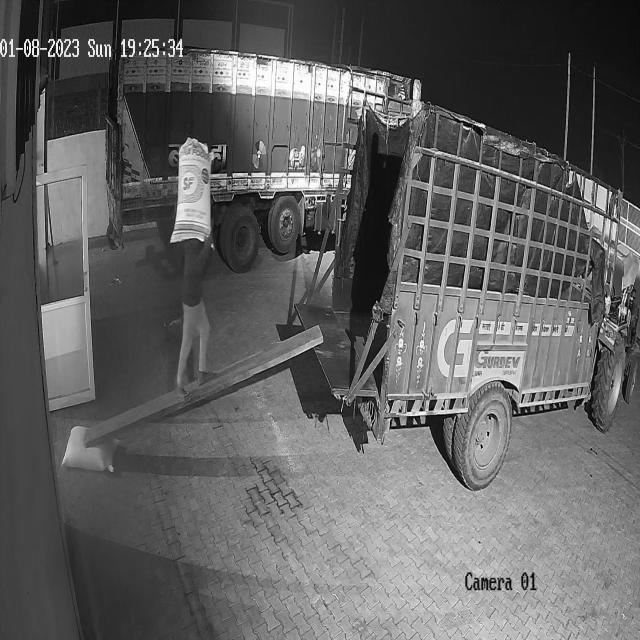sack: (169, 137, 213, 245), (62, 424, 118, 470)
